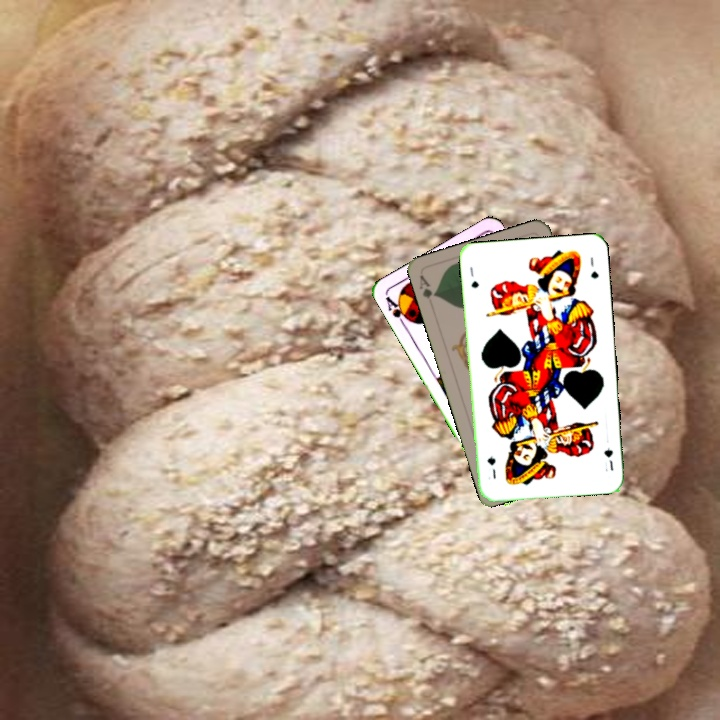GA: (415, 271, 439, 301)
GU: (600, 444, 616, 474), (466, 263, 481, 290)
SA: (382, 292, 414, 329)
